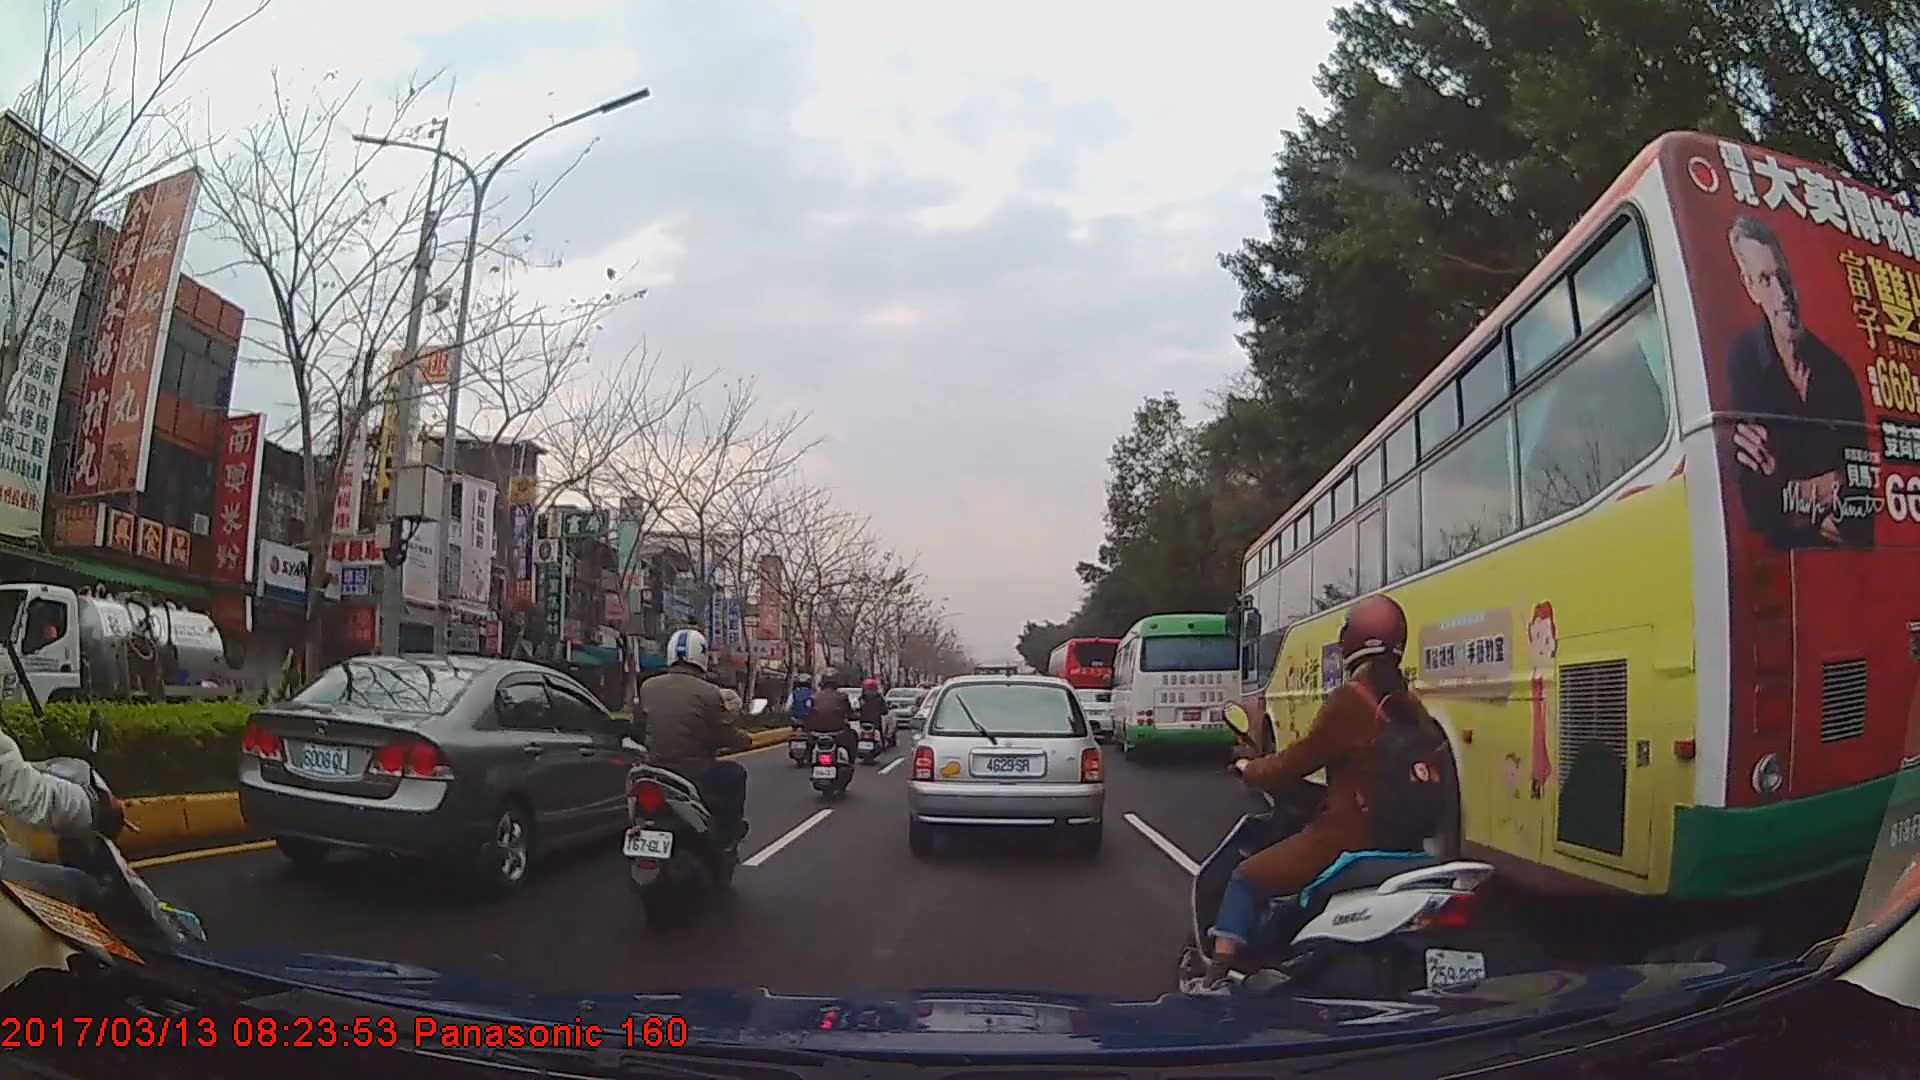rider: (1178, 595, 1480, 1032), (1, 526, 209, 1014), (619, 625, 767, 925), (807, 669, 852, 800), (851, 676, 887, 768), (782, 672, 822, 750)
vehicle: (1236, 127, 1919, 915), (233, 652, 659, 895), (0, 582, 226, 749), (907, 671, 1102, 852), (1106, 611, 1243, 763), (1044, 634, 1127, 733), (675, 681, 741, 727)
